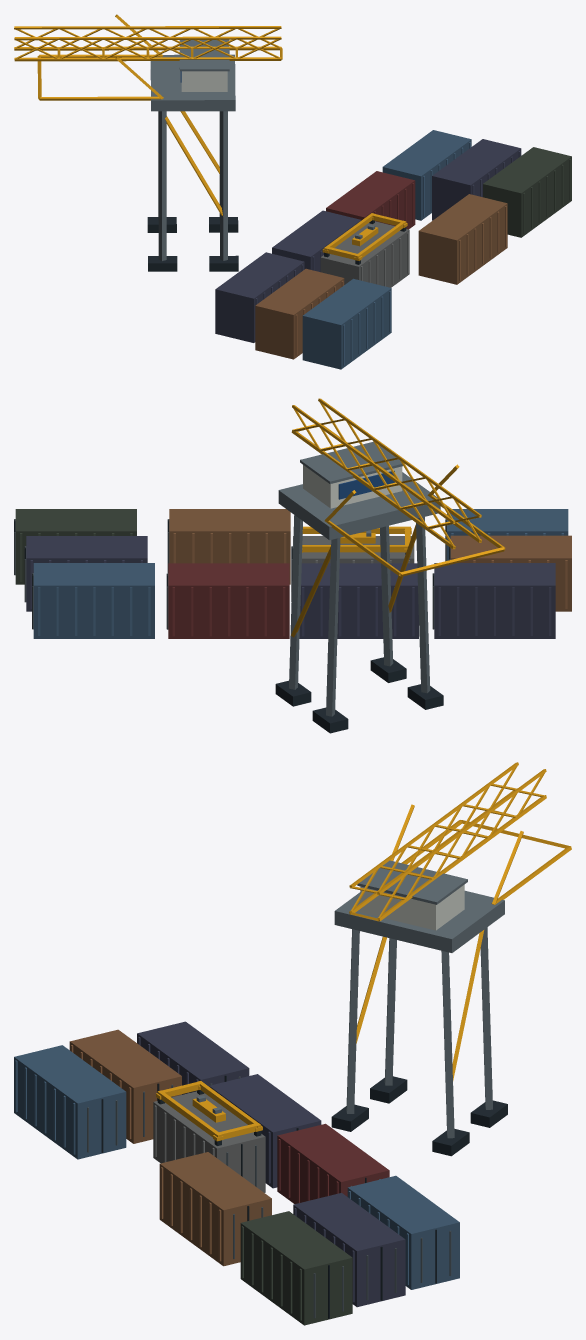
The model's file is gantry-crane-ne-sw-09.glb.
3 renders of one model, top to bottom at view 1: azimuth 30°, elevation 25°; view 2: azimuth 150°, elevation 25°; view 3: azimuth 270°, elevation 25°, orthographic. The views are drawn at different scales.
Visible parts, largest first — view 1: gantry-crane-ne-sw-09; view 2: gantry-crane-ne-sw-09; view 3: gantry-crane-ne-sw-09.
Part boxes in pixels (<box>): gantry-crane-ne-sw-09: <box>14,14,571,369</box>; gantry-crane-ne-sw-09: <box>14,398,571,733</box>; gantry-crane-ne-sw-09: <box>14,762,571,1325</box>.
Size of the model in its own units: 71.26 by 31.18 by 57.77.
